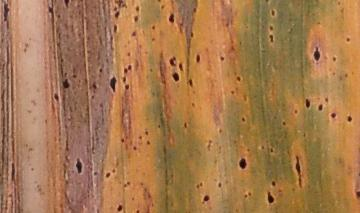tarspot: (289, 153, 310, 193), (233, 154, 252, 174), (307, 43, 324, 65), (71, 155, 86, 179), (106, 72, 119, 95), (163, 53, 179, 69), (262, 188, 279, 203), (59, 75, 73, 93), (42, 3, 59, 17), (198, 193, 216, 206), (168, 72, 183, 86), (189, 51, 204, 65), (301, 95, 314, 111), (214, 51, 230, 64), (194, 177, 207, 192), (166, 10, 177, 26), (128, 14, 144, 25), (344, 111, 355, 127), (265, 7, 281, 18), (267, 176, 280, 189), (100, 169, 112, 183), (108, 22, 122, 34), (189, 3, 201, 17), (264, 33, 278, 45), (116, 134, 130, 146), (120, 177, 132, 191), (113, 201, 126, 213), (327, 110, 339, 123), (121, 62, 134, 74), (187, 98, 200, 110), (84, 91, 99, 101), (184, 77, 196, 89), (316, 101, 325, 117), (227, 86, 239, 98), (132, 3, 145, 14), (232, 72, 245, 83), (125, 48, 136, 61), (242, 188, 253, 201), (89, 79, 101, 90), (109, 11, 123, 20), (121, 82, 132, 93), (328, 53, 339, 64), (128, 29, 140, 39), (147, 21, 159, 31), (185, 29, 197, 39), (265, 24, 280, 32), (139, 128, 151, 138), (147, 34, 159, 44), (177, 60, 185, 74), (212, 181, 226, 189), (342, 34, 352, 45), (237, 114, 248, 124), (278, 117, 288, 128), (265, 146, 276, 156), (216, 125, 225, 137), (94, 65, 107, 73), (90, 168, 100, 178), (180, 120, 191, 129), (61, 1, 73, 9), (142, 138, 154, 146), (355, 185, 360, 203), (322, 94, 330, 105), (132, 202, 140, 212), (131, 145, 140, 153)
